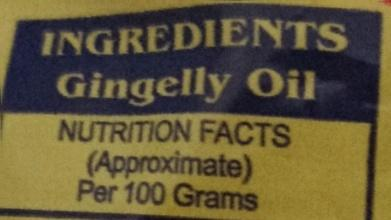ingredients: (25, 19, 373, 220)
